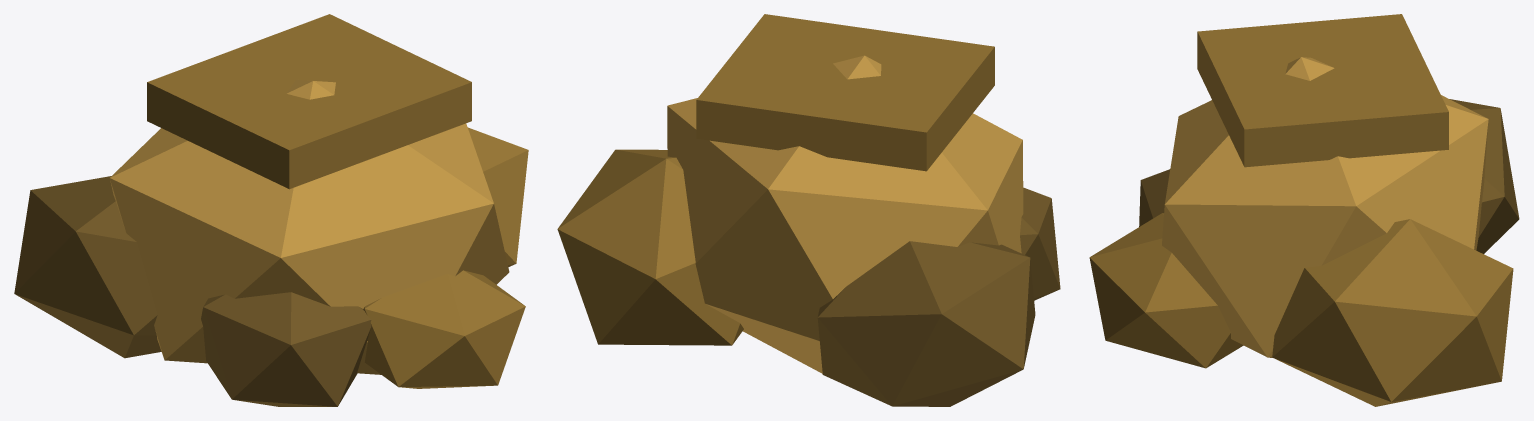
Rendered from gold_outcrop.glb.
3 renders of one model, left to right at view 1: azimuth 30°, elevation 25°; view 2: azimuth 150°, elevation 25°; view 3: azimuth 270°, elevation 25°, orthographic. The views are drawn at different scales.
Visible parts, largest first — view 1: gilded crag, worn seat, gilded crag.002, gilded crag.004, gilded crag.003, gilded crag.001; view 2: gilded crag, worn seat, gilded crag.002, gilded crag.001, gilded crag.004; view 3: gilded crag, gilded crag.001, worn seat, gilded crag.003, gilded crag.002, gilded crag.004.
Boxes of the visible parts, x1=… form: gilded crag: x1=109, y1=79, x2=509, y2=374; worn seat: x1=147, y1=14, x2=471, y2=189; gilded crag.002: x1=14, y1=176, x2=161, y2=358; gilded crag.004: x1=201, y1=292, x2=371, y2=406; gilded crag.003: x1=363, y1=270, x2=525, y2=388; gilded crag.001: x1=467, y1=127, x2=528, y2=267; gilded crag: x1=667, y1=55, x2=1023, y2=373; worn seat: x1=696, y1=14, x2=994, y2=171; gilded crag.002: x1=817, y1=241, x2=1035, y2=406; gilded crag.001: x1=557, y1=149, x2=743, y2=345; gilded crag.004: x1=1020, y1=187, x2=1060, y2=300; gilded crag: x1=1162, y1=57, x2=1488, y2=357; gilded crag.001: x1=1272, y1=219, x2=1513, y2=406; worn seat: x1=1197, y1=14, x2=1448, y2=167; gilded crag.003: x1=1089, y1=213, x2=1243, y2=368; gilded crag.002: x1=1449, y1=99, x2=1519, y2=253; gilded crag.004: x1=1139, y1=169, x2=1170, y2=226.
Bounding box in the file's own units: 0.7653 × 0.4752 × 0.618.
